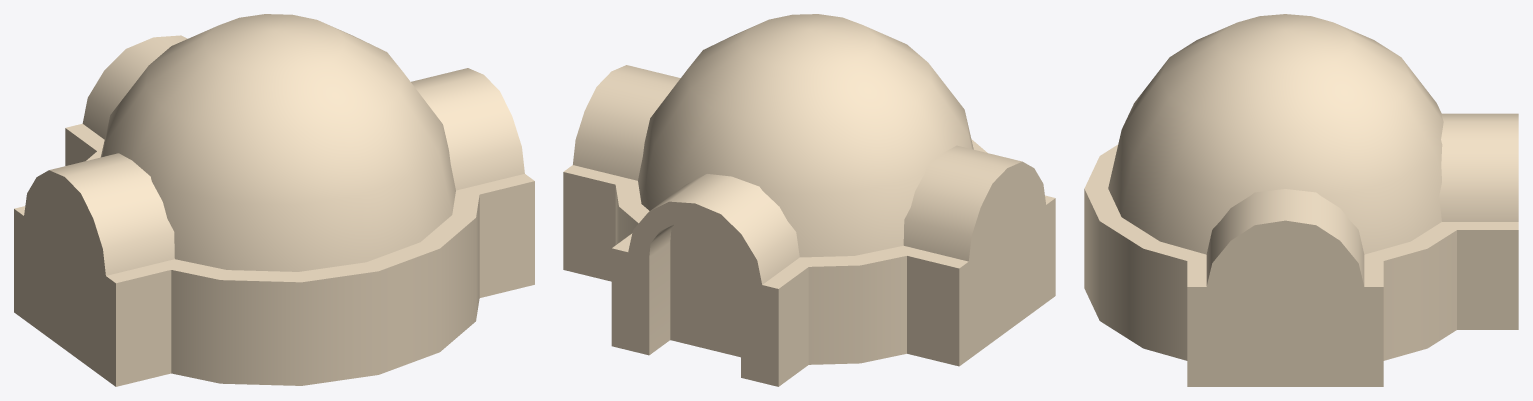
The model's file is house.glb.
3 views of the same model, side by side, from view 1: azimuth 30°, elevation 25°; view 2: azimuth 150°, elevation 25°; view 3: azimuth 270°, elevation 25° (orthographic). The views are drawn at different scales.
Visible parts, largest first — view 1: Sphere.001; view 2: Sphere.001; view 3: Sphere.001.
Part boxes in pixels (x1,y1,x2,y2): Sphere.001: (14, 14, 534, 386); Sphere.001: (563, 14, 1055, 386); Sphere.001: (1084, 14, 1518, 386).
Bounding box in the file's own units: 28.92 × 17.66 × 26.93.
